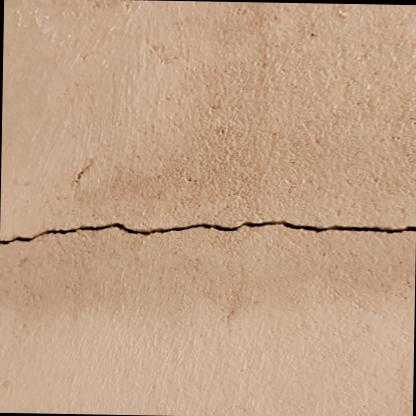crack: (0, 219, 416, 243)
